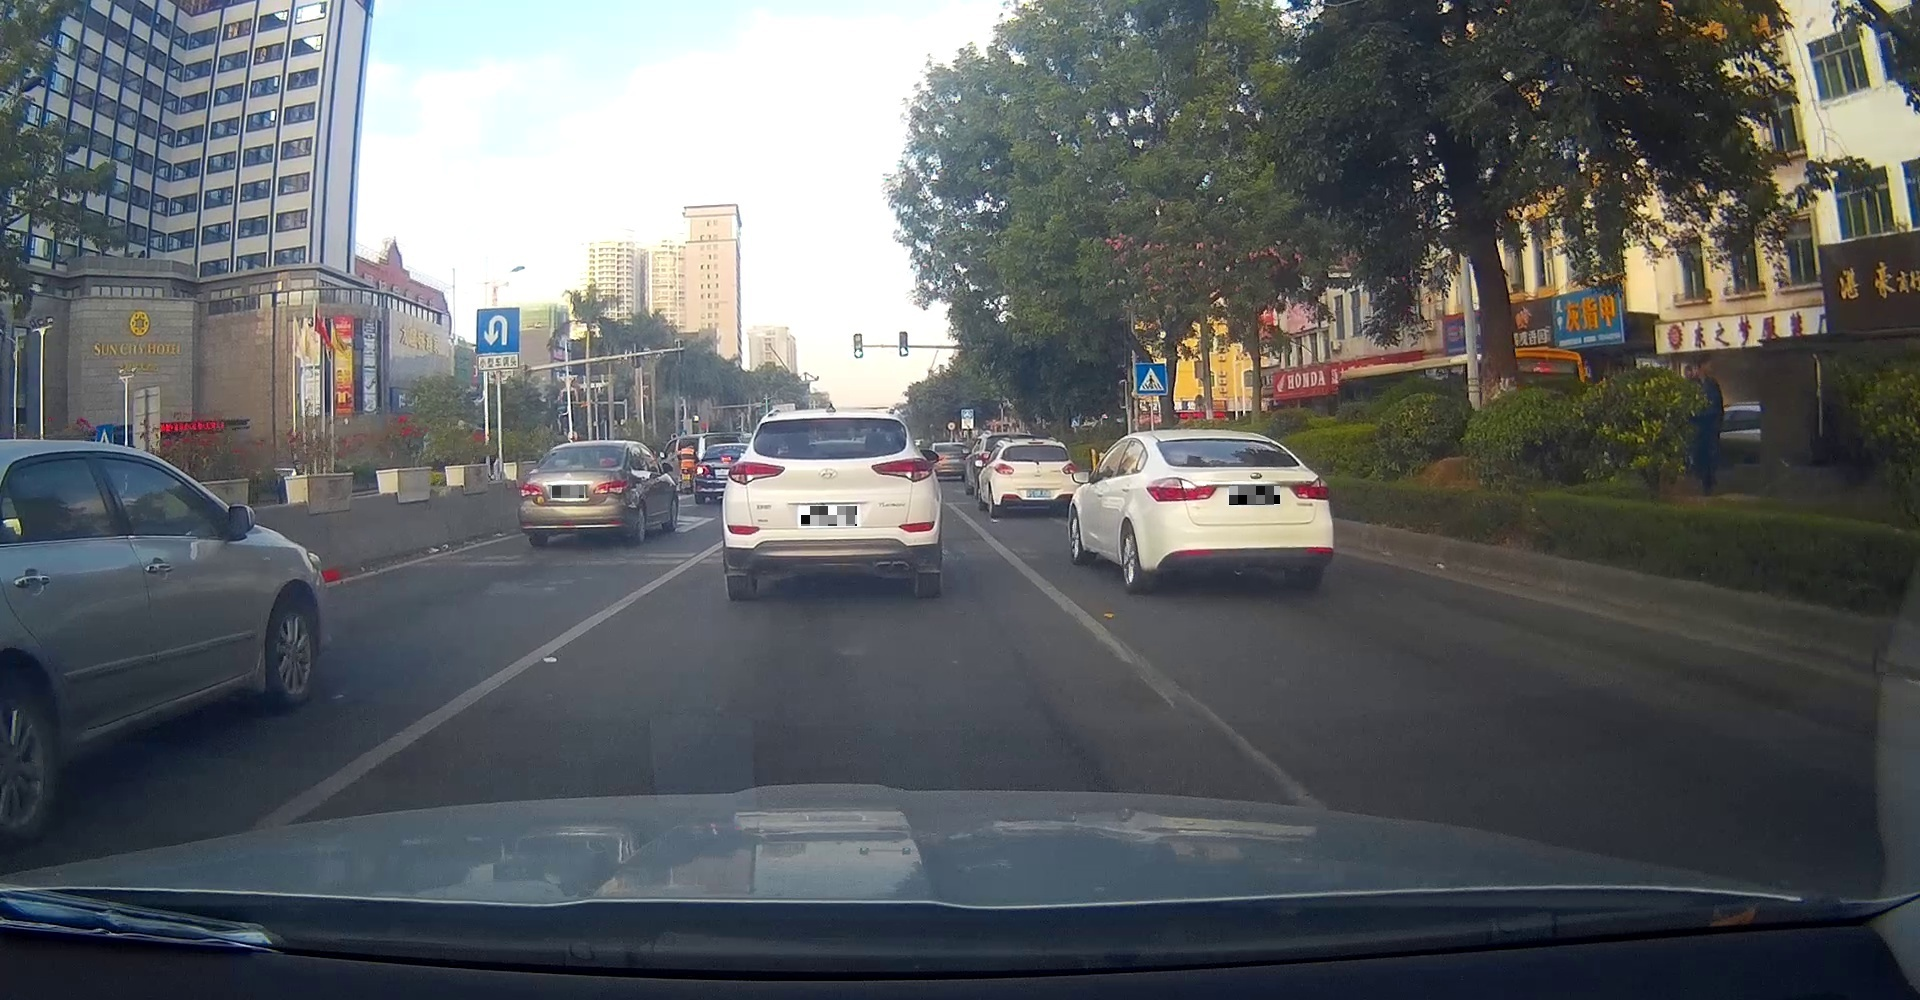L_light: (1145, 476, 1217, 503), (728, 459, 785, 485), (519, 482, 543, 497), (994, 463, 1015, 475), (1062, 462, 1078, 475)
R_light: (871, 457, 933, 484), (1289, 475, 1330, 501), (593, 478, 629, 495)
T_light: (813, 419, 851, 426), (1224, 459, 1243, 466), (566, 464, 584, 471), (1031, 445, 1043, 448)
day-no: (723, 409, 941, 600), (1143, 429, 1335, 593), (517, 440, 635, 546), (990, 439, 1079, 518)
plate_1: (552, 486, 584, 497)
plate_2: (801, 506, 857, 525)
plate_3: (1229, 486, 1280, 505)
